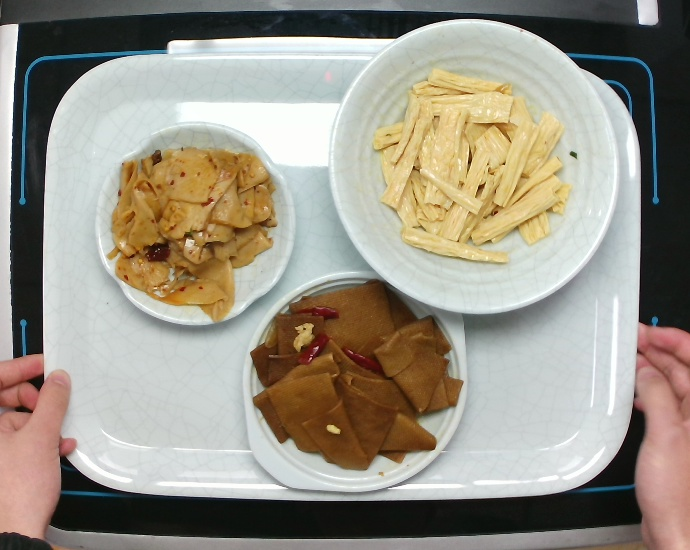JYsf-Ao_Yuan_Wan: (80, 123, 300, 335)
JYsf-Shuang_Er_Pan: (231, 274, 484, 500)
JYsf-Xiao_Tang_Wan: (319, 13, 618, 330)
